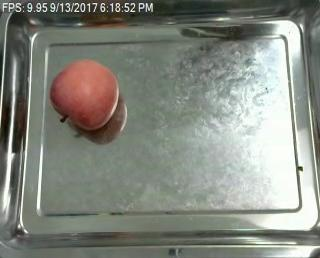apple: (50, 59, 120, 131)
